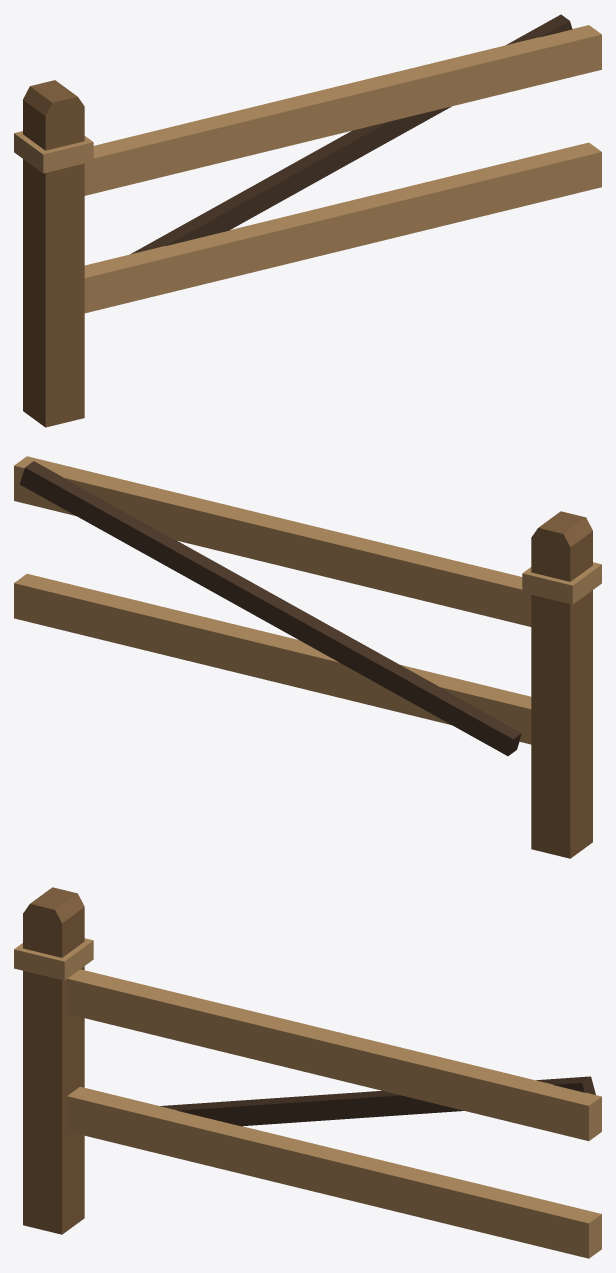
The model's file is TW_WOOD_RAIL_2M_B_LOD0.glb.
3 views of the same model, one above another, from view 1: azimuth 30°, elevation 25°; view 2: azimuth 150°, elevation 25°; view 3: azimuth 330°, elevation 25° (orthographic).
Parts seen in each view (by area): view 1: TW_WOOD_RAIL_2M_B_LOD0; view 2: TW_WOOD_RAIL_2M_B_LOD0; view 3: TW_WOOD_RAIL_2M_B_LOD0.
Part boxes in pixels (box(x1,y1,x2,y2)): TW_WOOD_RAIL_2M_B_LOD0: box(14, 14, 601, 427); TW_WOOD_RAIL_2M_B_LOD0: box(14, 456, 601, 858); TW_WOOD_RAIL_2M_B_LOD0: box(14, 887, 601, 1258).
Size of the model in its own units: 2.02 by 1.1 by 0.1825.
Materials: 1 (1 with a texture image).
